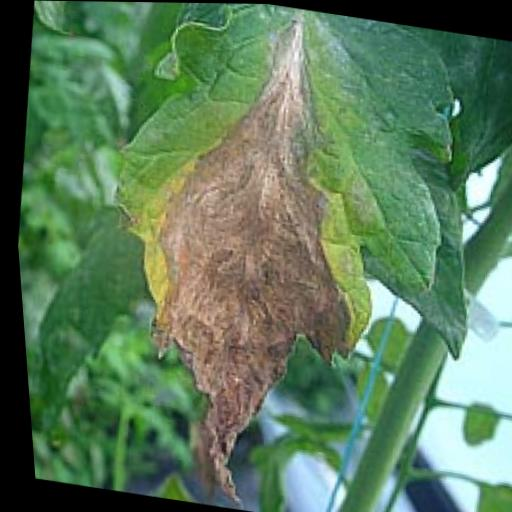Leaf Mold: (67, 1, 489, 512)
